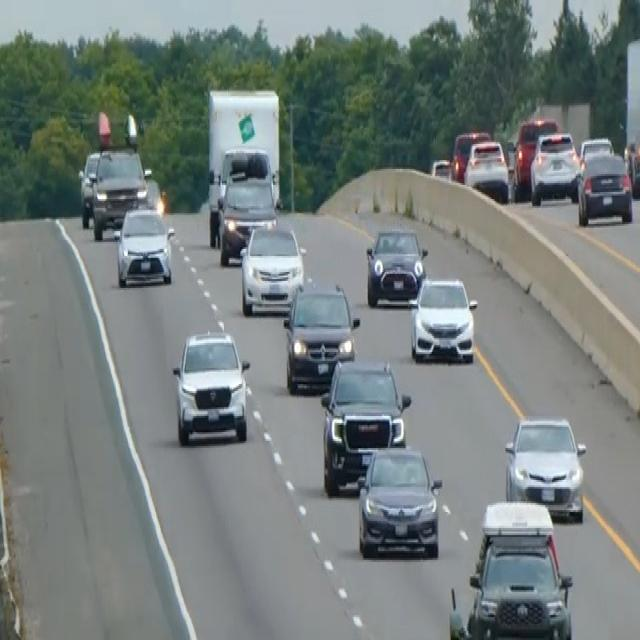car: (448, 498, 574, 638), (320, 356, 411, 494), (356, 443, 442, 560), (503, 412, 587, 521), (282, 279, 359, 393), (216, 147, 278, 265), (239, 220, 305, 316), (409, 274, 478, 364), (90, 144, 150, 240), (364, 224, 427, 308), (112, 203, 175, 286), (576, 149, 633, 226), (529, 128, 581, 204), (511, 114, 558, 195), (463, 137, 510, 203), (450, 128, 490, 183), (77, 147, 100, 225), (578, 134, 614, 166), (624, 135, 639, 197), (143, 174, 164, 215), (430, 156, 452, 182)
jeep: (170, 324, 251, 448)
truck: (205, 85, 281, 247)
